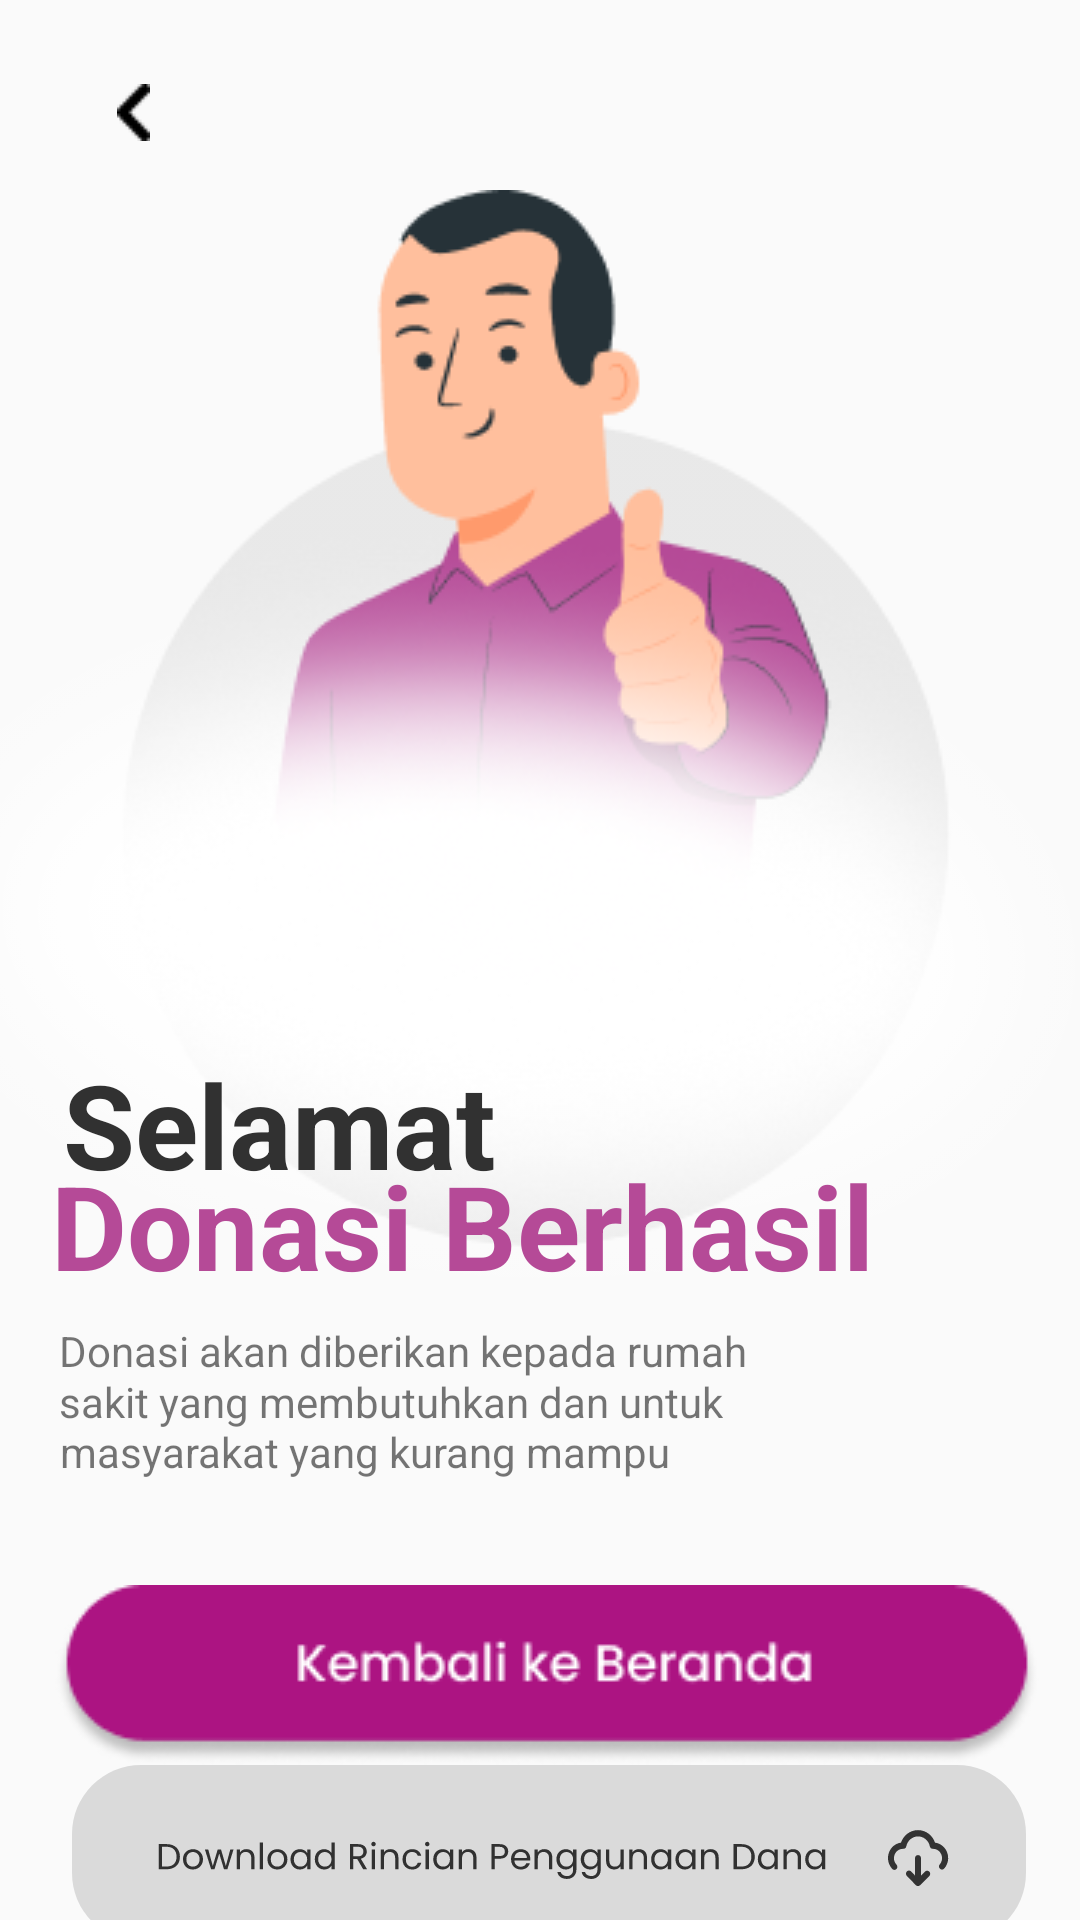

Locate icon controls on the screen. Image size 1080×1920, boxes as detection(x1, y1, x2, y2).
backhitam: detection(117, 84, 150, 141)
